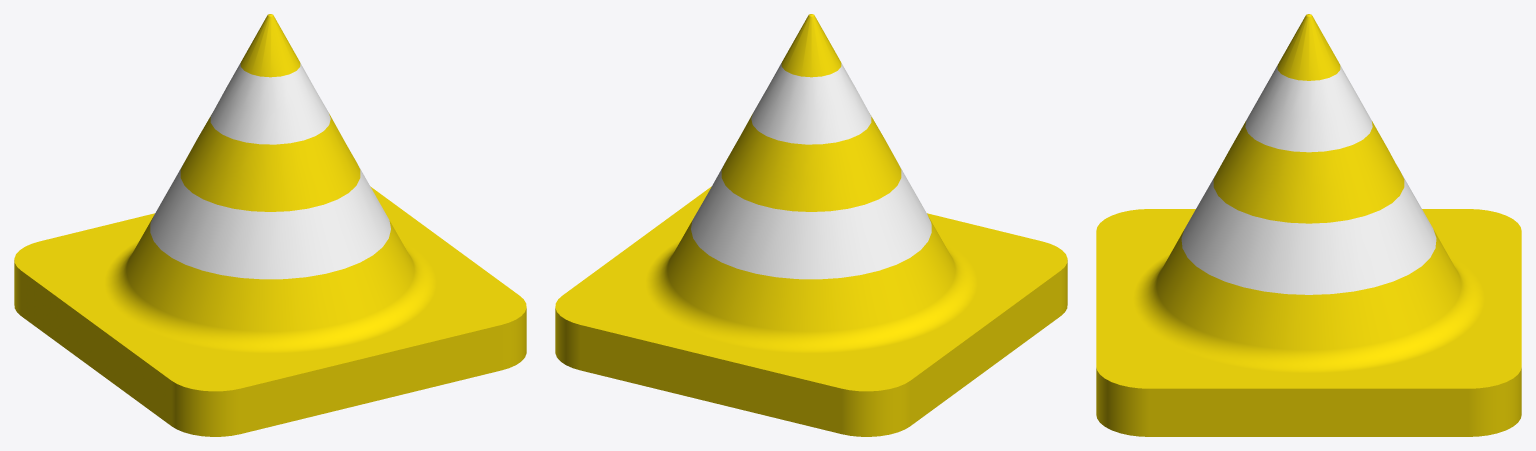
Rendered from safety_cone.glb.
3 renders of one model, left to right at view 1: azimuth 30°, elevation 25°; view 2: azimuth 150°, elevation 25°; view 3: azimuth 270°, elevation 25°, orthographic. The views are drawn at different scales.
Parts seen in each view (by area): view 1: safety_cone; view 2: safety_cone; view 3: safety_cone.
Boxes of the visible parts, x1,y1,x2,y2 form: safety_cone: (14, 14, 526, 436); safety_cone: (555, 14, 1067, 436); safety_cone: (1096, 14, 1521, 436).
Size of the model in its own units: 0.8 by 0.69 by 0.8.
